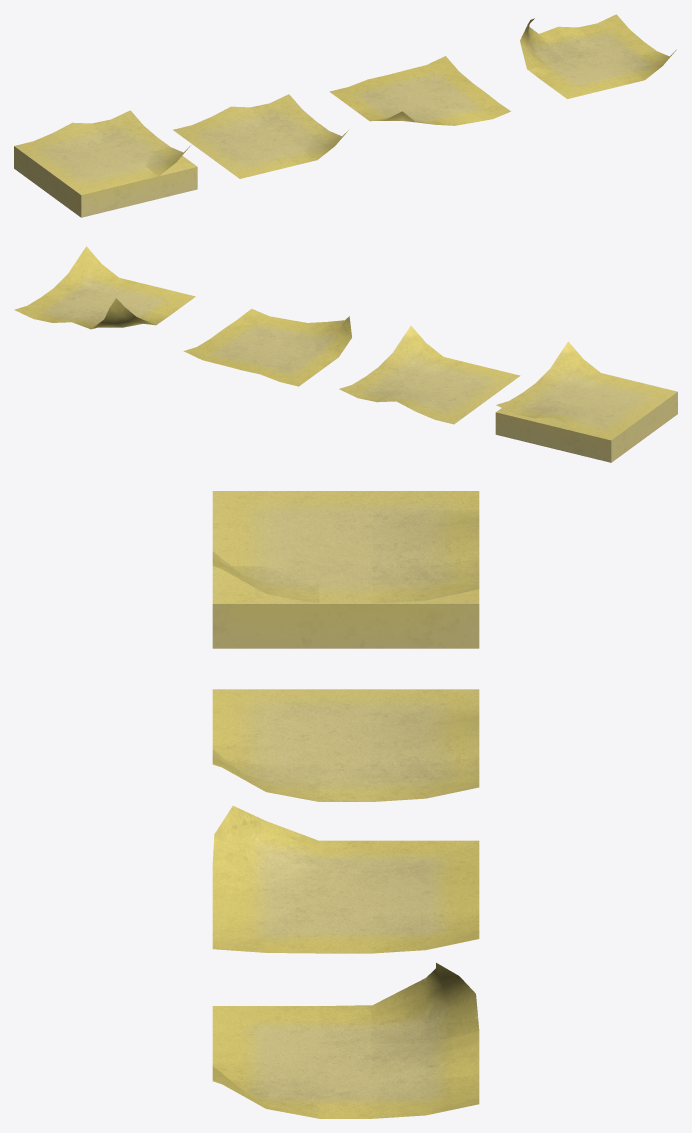
File: post_it_notes.glb
The picture shows the model from 3 angles, top to bottom: view 1: azimuth 30°, elevation 25°; view 2: azimuth 150°, elevation 25°; view 3: azimuth 270°, elevation 25°; orthographic projection. The views are drawn at different scales.
Parts seen in each view (by area): view 1: SM_post_it_notes_2, SM_post_it_notes.003_5, SM_post_it_notes.001_3, SM_post_it_notes.002_4, SM_post_it_notes.004_6; view 2: SM_post_it_notes.001_3, SM_post_it_notes_2, SM_post_it_notes.002_4, SM_post_it_notes.003_5, SM_post_it_notes.004_6; view 3: SM_post_it_notes.002_4, SM_post_it_notes.001_3, SM_post_it_notes.003_5, SM_post_it_notes_2, SM_post_it_notes.004_6.
Boxes of the visible parts, x1,y1,x2,y2 form: SM_post_it_notes_2: [173, 94, 348, 178]; SM_post_it_notes.003_5: [520, 14, 676, 98]; SM_post_it_notes.001_3: [14, 137, 197, 217]; SM_post_it_notes.002_4: [329, 56, 510, 125]; SM_post_it_notes.004_6: [14, 110, 190, 194]; SM_post_it_notes.001_3: [495, 373, 677, 462]; SM_post_it_notes_2: [339, 325, 520, 424]; SM_post_it_notes.002_4: [183, 308, 351, 386]; SM_post_it_notes.003_5: [14, 246, 195, 329]; SM_post_it_notes.004_6: [496, 341, 663, 439]; SM_post_it_notes.002_4: [212, 805, 479, 953]; SM_post_it_notes.001_3: [212, 491, 479, 648]; SM_post_it_notes.003_5: [212, 962, 479, 1118]; SM_post_it_notes_2: [212, 689, 479, 801]; SM_post_it_notes.004_6: [212, 491, 479, 603].
Size of the model in its own units: 0.3931 by 0.03 by 0.076.
Materials: 1 (1 with a texture image).
